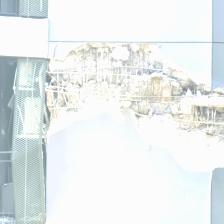High: (25, 37, 224, 165)
